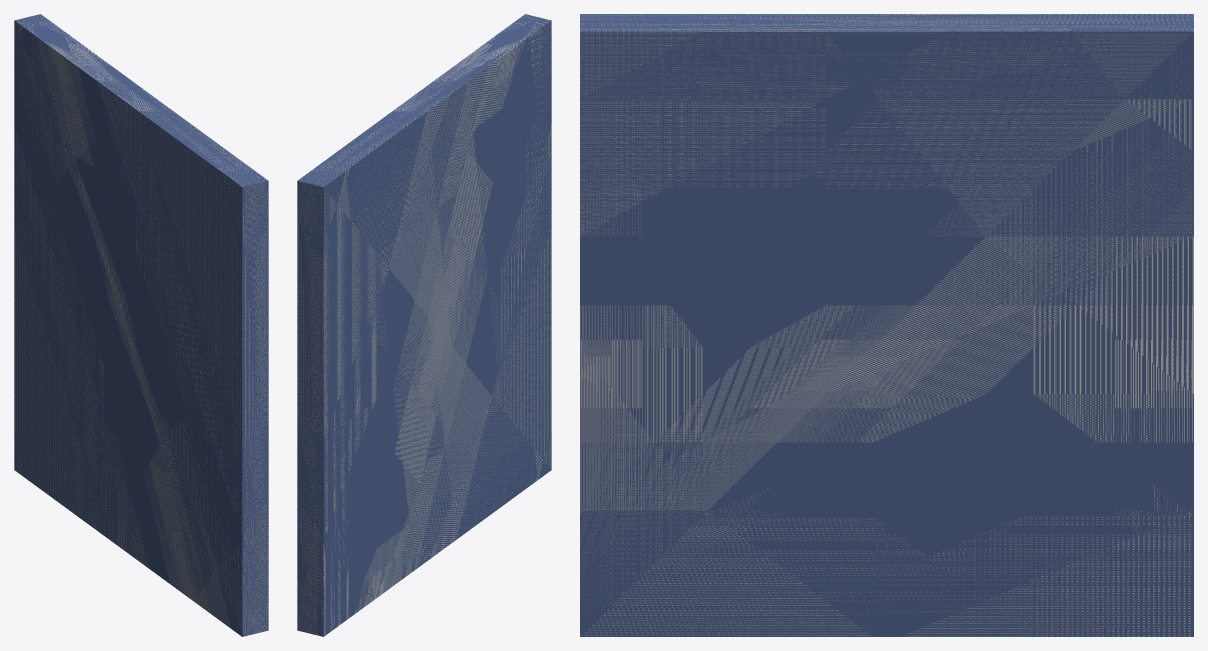
Rendered from original-4.obj.
The picture shows the model from 3 angles, left to right: view 1: azimuth 30°, elevation 25°; view 2: azimuth 150°, elevation 25°; view 3: azimuth 270°, elevation 25°; orthographic projection. The views are drawn at different scales.
Visible parts, largest first — view 1: _1x12_1/Self_Sides/mesh4/mesh4-geometry#mesh4-geometry; view 2: _1x12_1/Self_Sides/mesh4/mesh4-geometry#mesh4-geometry; view 3: _1x12_1/Self_Sides/mesh4/mesh4-geometry#mesh4-geometry.
Part boxes in pixels (<box>): _1x12_1/Self_Sides/mesh4/mesh4-geometry#mesh4-geometry: <box>14,14,268,636</box>; _1x12_1/Self_Sides/mesh4/mesh4-geometry#mesh4-geometry: <box>297,14,551,636</box>; _1x12_1/Self_Sides/mesh4/mesh4-geometry#mesh4-geometry: <box>580,14,1193,636</box>.
Size of the model in its own units: 0.0249 by 0.4073 by 0.3741.
